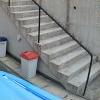stairs: (0, 0, 99, 98)
